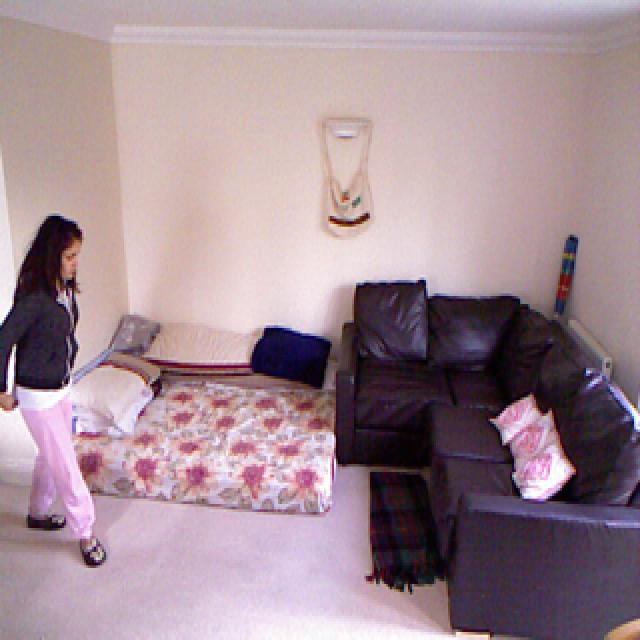standing: (0, 212, 116, 568)
